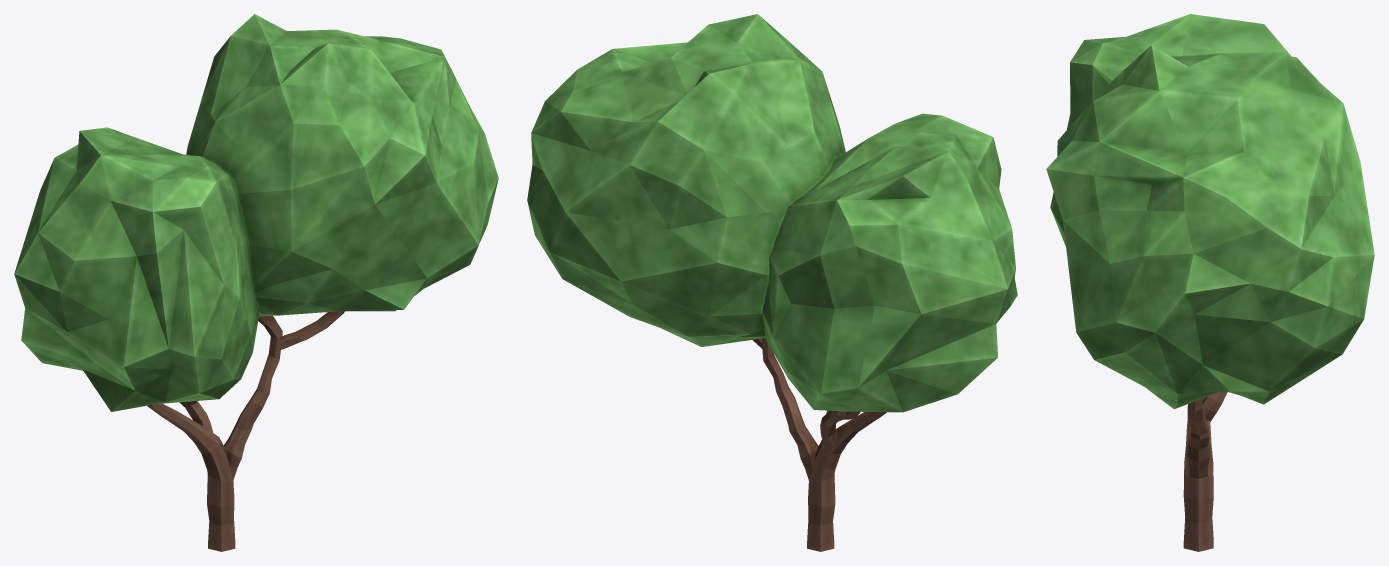
File: zeytin.glb
The picture shows the model from 3 angles, left to right: view 1: azimuth 30°, elevation 25°; view 2: azimuth 150°, elevation 25°; view 3: azimuth 270°, elevation 25°; orthographic projection. The views are drawn at different scales.
Visible parts, largest first — view 1: OliveTree_mesh; view 2: OliveTree_mesh; view 3: OliveTree_mesh.
Part boxes in pixels (bbox=[...]): OliveTree_mesh: bbox=[14, 14, 498, 551]; OliveTree_mesh: bbox=[527, 14, 1017, 551]; OliveTree_mesh: bbox=[1046, 14, 1374, 551].
Bounding box in the file's own units: 11.24 × 11.73 × 6.41.
1 material, 1 textured.
